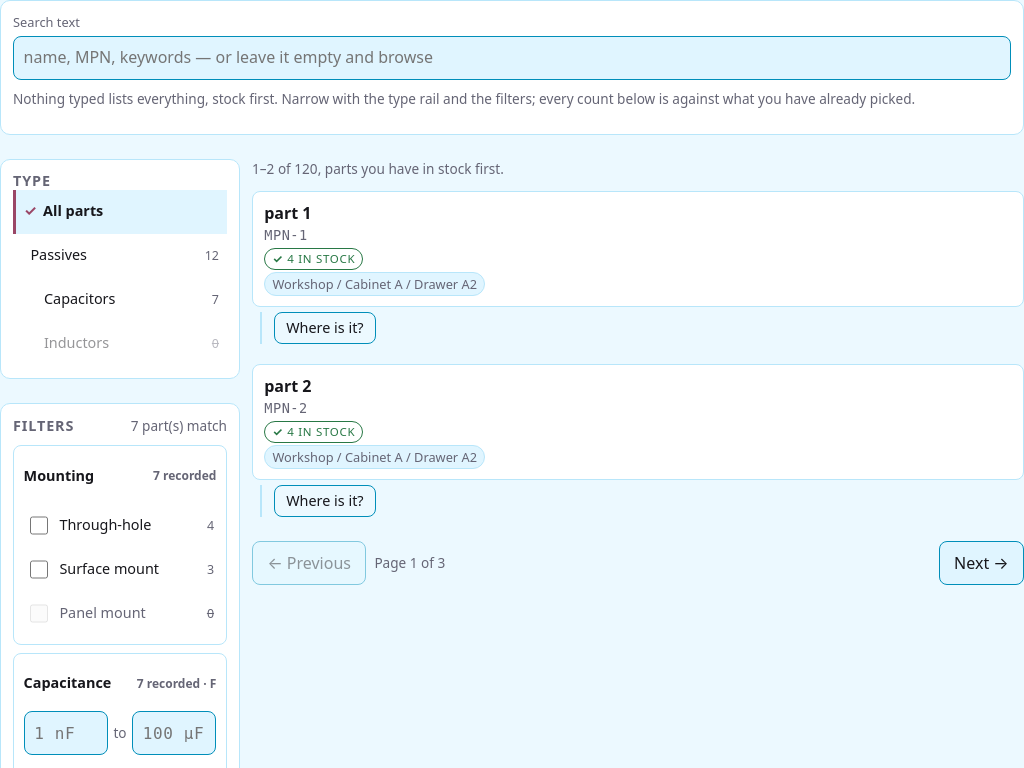
where a result is › draws the walk only once it is asked for
Click the button "Where is it?" below "part 1": [325, 328] box top-left (274, 312), bottom-right (376, 344)
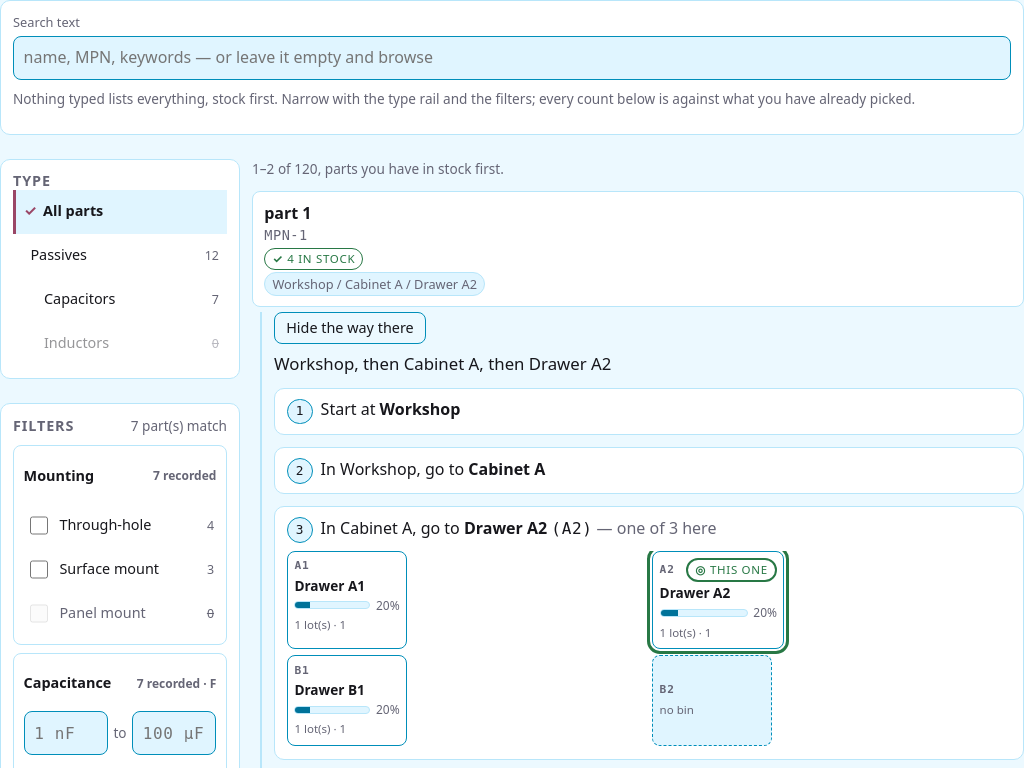
Now the text "Workshop, then Cabinet A, then Drawer A2" is shown, box top-left (274, 352), bottom-right (611, 375)
Now the text "this one" is shown, box top-left (686, 558), bottom-right (777, 582)
